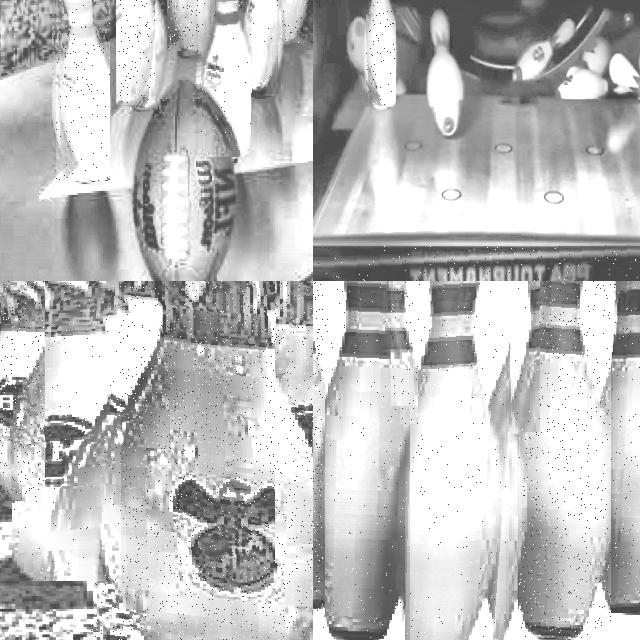bowling-pins: (91, 281, 313, 640), (402, 281, 505, 640), (519, 281, 610, 640), (318, 281, 409, 640), (13, 281, 116, 580), (604, 281, 640, 612), (56, 0, 110, 181), (200, 0, 250, 156), (510, 281, 539, 432), (119, 0, 155, 103), (239, 0, 279, 92), (391, 281, 418, 406), (366, 0, 396, 107), (168, 0, 207, 52), (275, 0, 304, 43)
